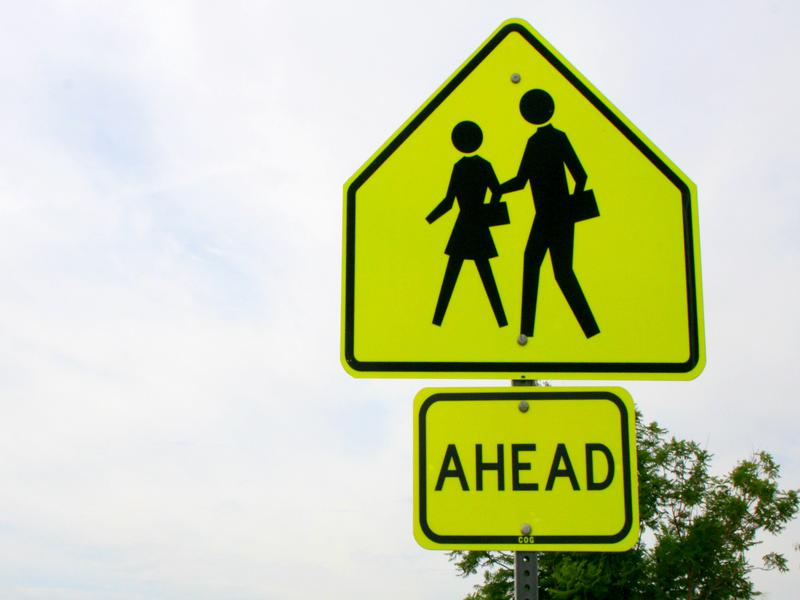slow: (336, 28, 715, 380)
